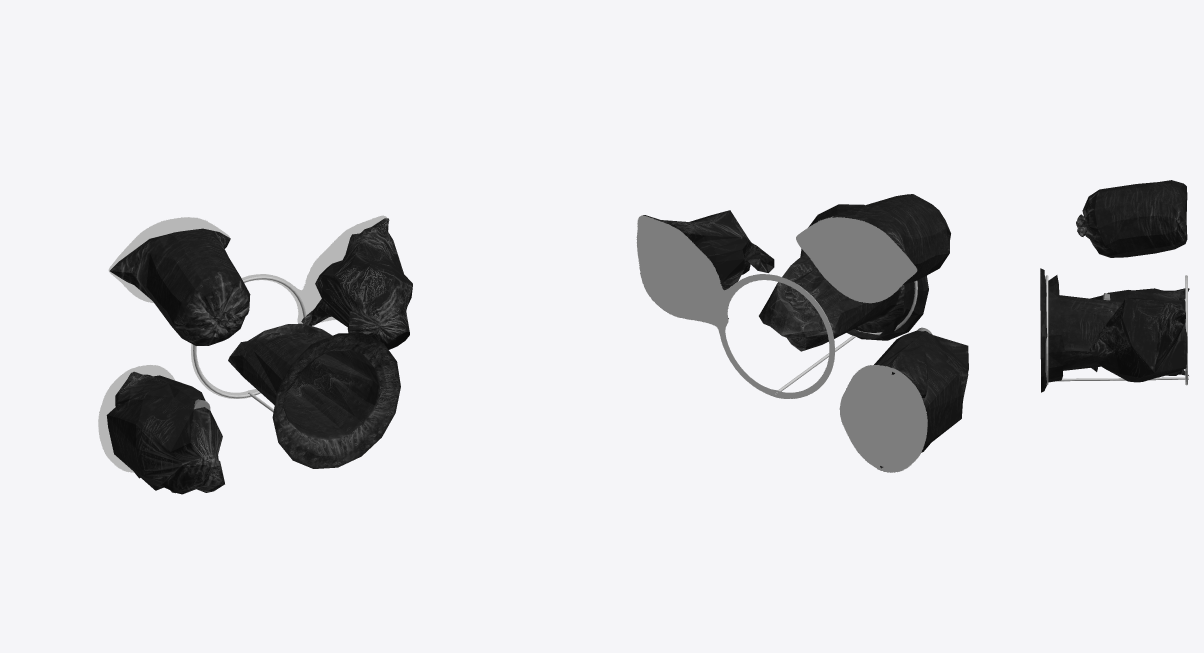
3 renders of one model, left to right at view 1: azimuth 30°, elevation 25°; view 2: azimuth 150°, elevation 25°; view 3: azimuth 270°, elevation 25°, orthographic. The views are drawn at different scales.
Parts seen in each view (by area): view 1: Cylinder_Bag04_0, Plane_Bag03_0, Plane.002_Bag00_0, Plane.004_Bag02_0, Plane.003_Shadow_0, BezierCircle_MetalHolder_0; view 2: Plane.003_Shadow_0, Cylinder_Bag04_0, Plane_Bag03_0, Plane.002_Bag00_0, Plane.004_Bag02_0; view 3: Plane.002_Bag00_0, Plane.004_Bag02_0, Cylinder_Bag04_0, Plane_Bag03_0, BezierCircle_MetalHolder_0.
Part boxes in pixels (x1,y1,x2,y2): Cylinder_Bag04_0: (228,323,400,468); Plane_Bag03_0: (106,371,224,494); Plane.002_Bag00_0: (110,228,250,345); Plane.004_Bag02_0: (301,218,412,349); Plane.003_Shadow_0: (98,215,388,472); BezierCircle_MetalHolder_0: (193,276,306,412); Plane.003_Shadow_0: (636,215,927,472); Cylinder_Bag04_0: (759,204,928,351); Plane_Bag03_0: (874,327,968,468); Plane.002_Bag00_0: (832,194,950,284); Plane.004_Bag02_0: (641,210,774,318); Plane.002_Bag00_0: (1076,180,1187,257); Plane.004_Bag02_0: (1089,296,1187,382); Cylinder_Bag04_0: (1040,268,1122,392); Plane_Bag03_0: (1090,288,1189,377); BezierCircle_MetalHolder_0: (1045,275,1188,385).
Bounding box in the file's own units: 1586 × 1586 × 504.
